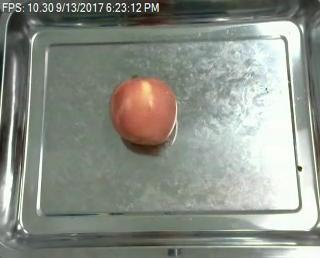apple: (111, 75, 177, 147)
